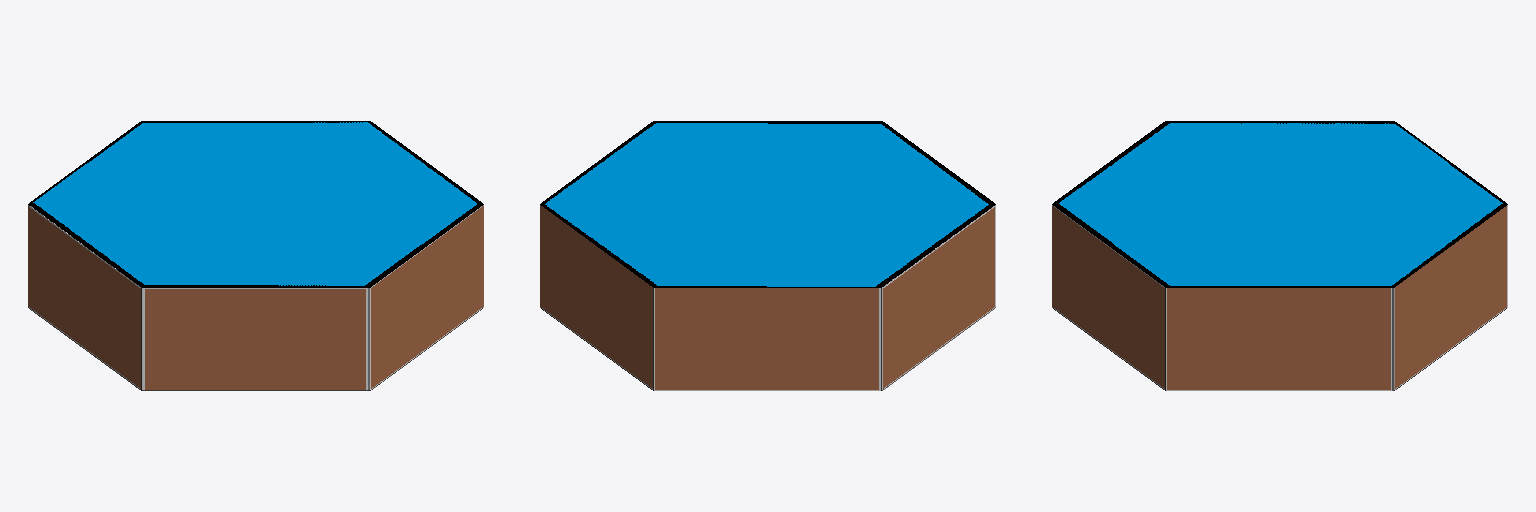
3 renders of one model, left to right at view 1: azimuth 30°, elevation 25°; view 2: azimuth 150°, elevation 25°; view 3: azimuth 270°, elevation 25°, orthographic.
Parts seen in each view (by area): view 1: PlainHex_Plane; view 2: PlainHex_Plane; view 3: PlainHex_Plane.
Boxes of the visible parts, box(x1,y1,x2,y2) form: PlainHex_Plane: box(28, 121, 483, 390); PlainHex_Plane: box(540, 121, 995, 390); PlainHex_Plane: box(1052, 121, 1507, 390).
Size of the model in its own units: 1.73 by 0.5 by 2.
1 materials, 1 textured.